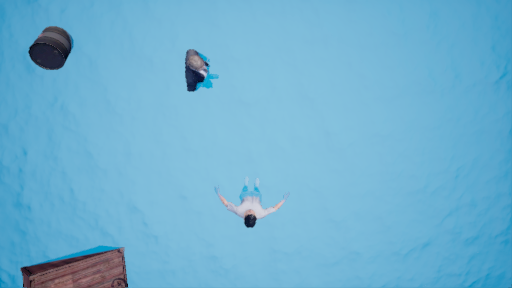person: (213, 170, 293, 232), (181, 45, 222, 98)
